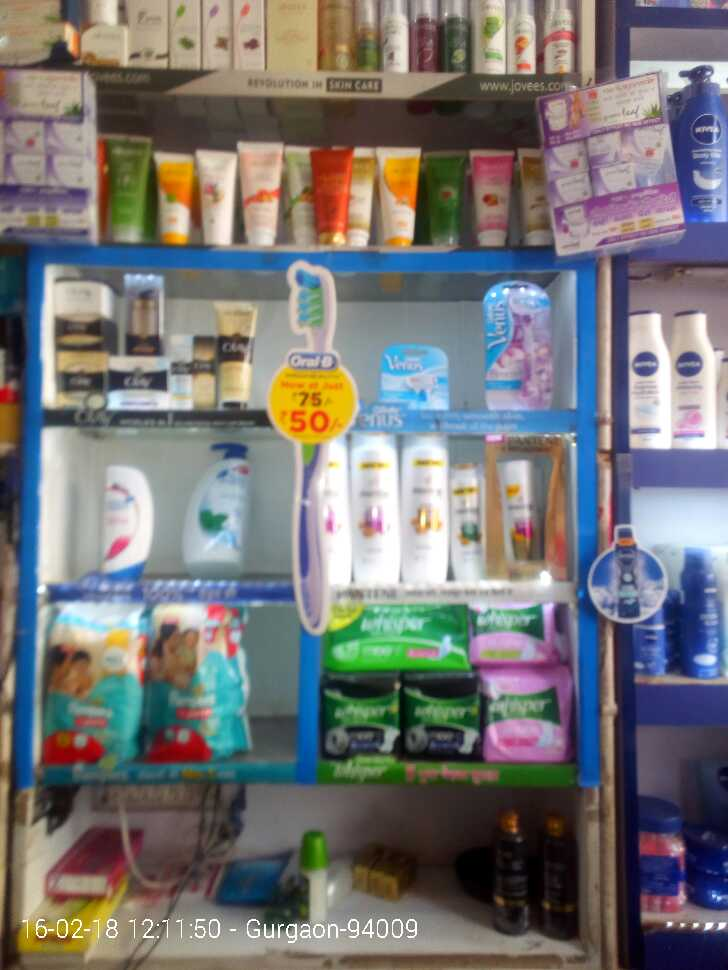venus: (485, 277, 548, 406), (383, 344, 449, 414)
